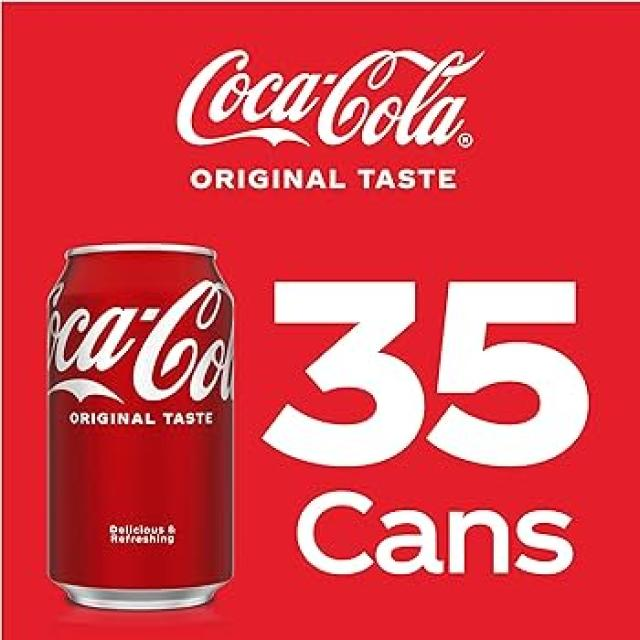cocacola: (40, 241, 244, 616)
